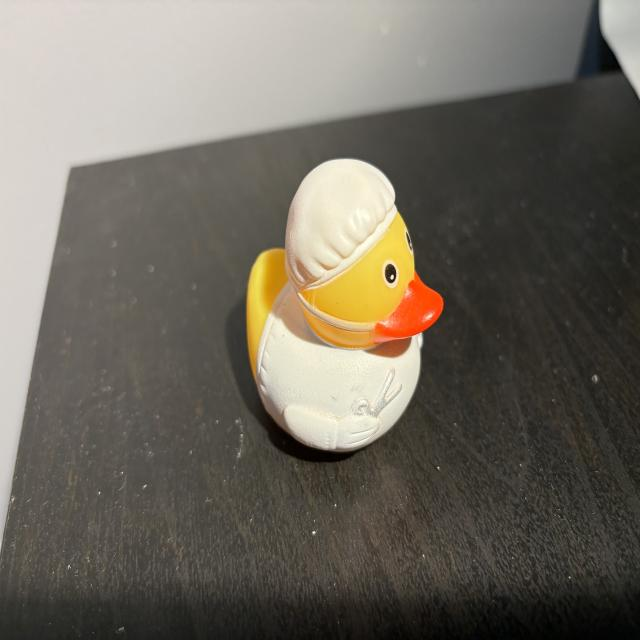duck_specialty: (247, 160, 445, 454)
